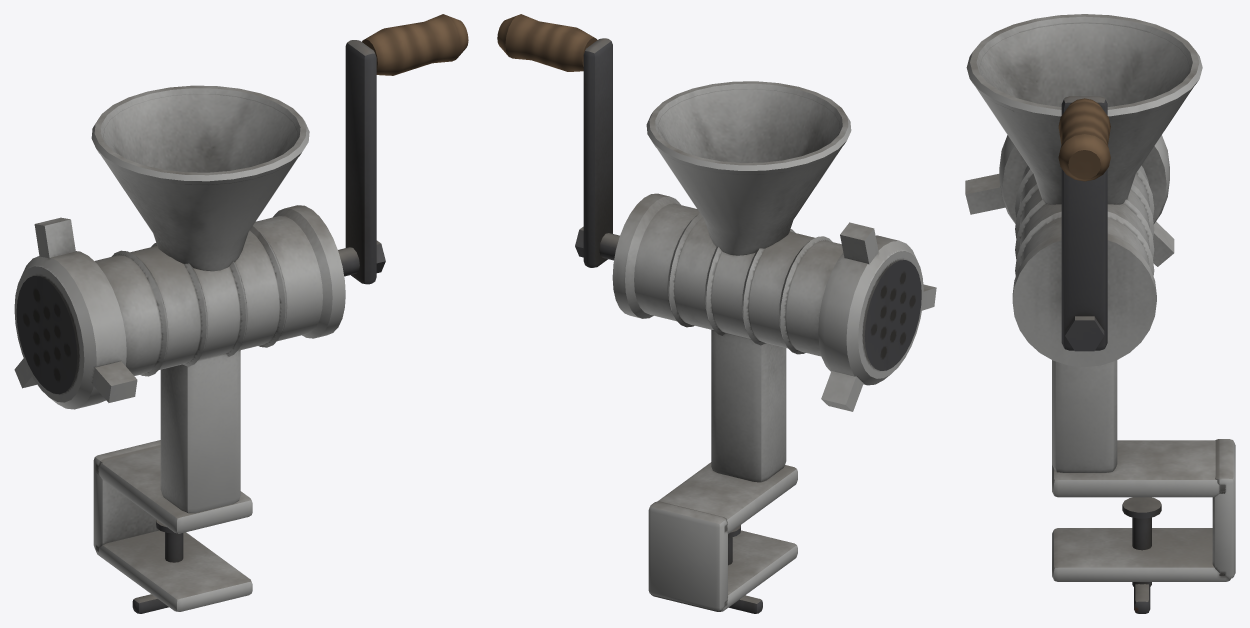
File: SM_MeatGrinder_Manual.fbx
The picture shows the model from 3 angles, left to right: view 1: azimuth 30°, elevation 25°; view 2: azimuth 150°, elevation 25°; view 3: azimuth 270°, elevation 25°; orthographic projection. The views are drawn at different scales.
Visible parts, largest first — view 1: SM_MeatGrinder_Manual; view 2: SM_MeatGrinder_Manual; view 3: SM_MeatGrinder_Manual.
Part boxes in pixels (<box>): SM_MeatGrinder_Manual: <box>14,14,468,613</box>; SM_MeatGrinder_Manual: <box>497,14,936,613</box>; SM_MeatGrinder_Manual: <box>965,14,1235,613</box>.
Size of the model in its own units: 0.3149 by 0.398 by 0.1647.
1 material, 1 textured.
